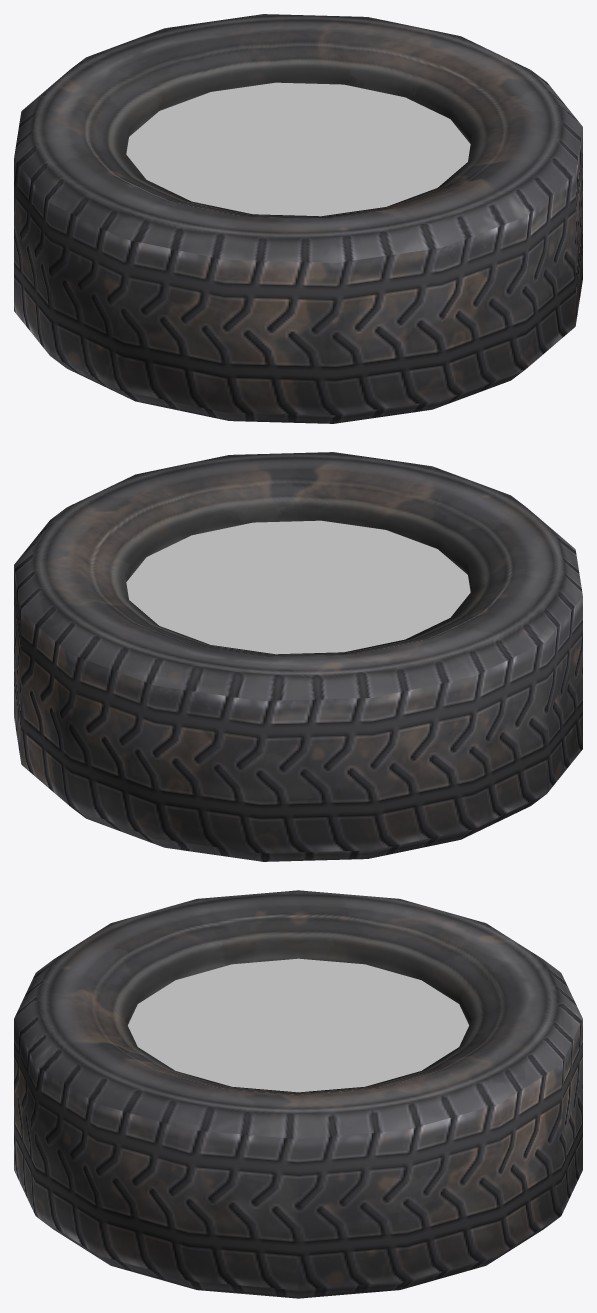
File: raisedBed_tire01.fbx
3 views of the same model, one above another, from view 1: azimuth 30°, elevation 25°; view 2: azimuth 150°, elevation 25°; view 3: azimuth 270°, elevation 25° (orthographic).
Parts seen in each view (by area): view 1: raisedBed_tire01; view 2: raisedBed_tire01; view 3: raisedBed_tire01.
Part boxes in pixels (<box>): raisedBed_tire01: <box>14,14,582,423</box>; raisedBed_tire01: <box>14,452,582,861</box>; raisedBed_tire01: <box>14,890,582,1298</box>.
Bounding box in the file's own units: 68.84 × 24.55 × 68.84.
